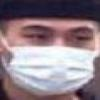mask: (5, 41, 100, 100)
